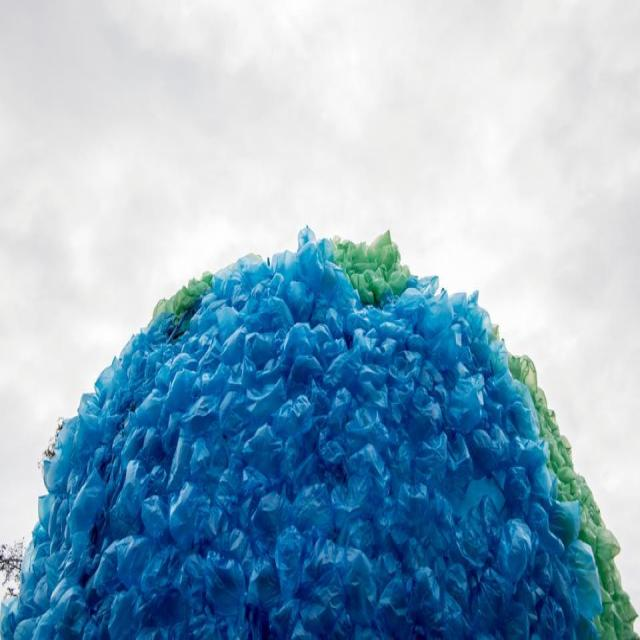plastic_bag: (561, 541, 622, 633), (455, 486, 505, 586), (65, 464, 121, 541), (345, 448, 397, 522), (447, 369, 492, 447), (205, 550, 252, 624), (455, 279, 501, 352), (32, 592, 94, 640), (271, 390, 327, 443), (166, 484, 207, 551), (256, 274, 291, 349), (211, 388, 256, 446), (337, 548, 383, 604), (498, 514, 534, 585), (409, 566, 443, 637), (237, 461, 270, 531), (295, 485, 337, 539), (169, 364, 199, 438), (217, 290, 247, 364), (110, 592, 156, 640), (550, 490, 585, 550), (276, 527, 304, 601), (383, 290, 431, 333), (419, 432, 448, 500), (117, 534, 155, 584), (510, 395, 546, 446), (284, 322, 327, 364), (95, 353, 129, 406), (396, 352, 424, 416), (372, 220, 401, 280), (355, 361, 391, 404), (172, 284, 200, 334), (500, 600, 534, 640), (298, 248, 326, 287), (599, 525, 623, 566)
